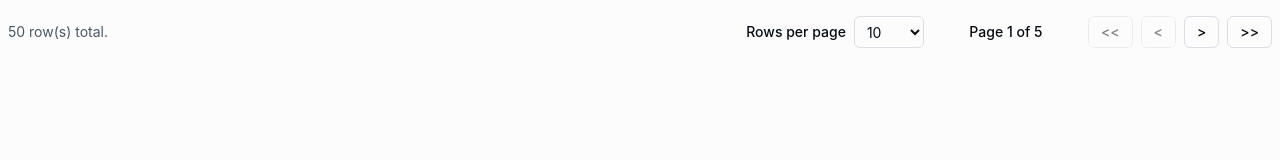
Scenario: TablePagination › navigation buttons › navigates to first page
# Go to page 3
Click the button ">": click(1202, 32) left=1184, top=16, right=1219, bottom=48
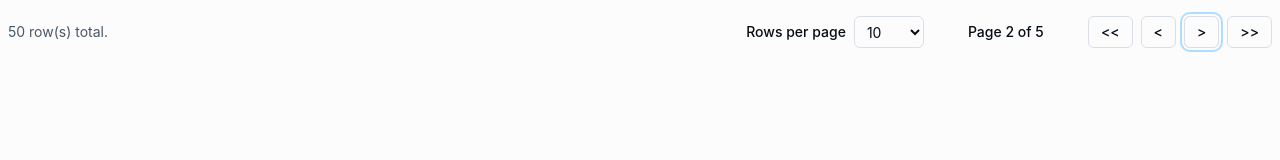
Click the button ">": click(1202, 32) left=1184, top=16, right=1219, bottom=48
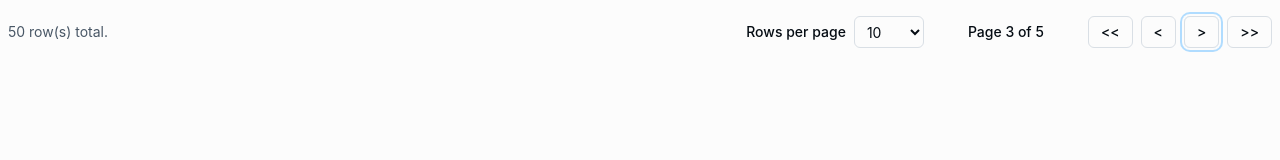
Expected: the text "Page 3 of 5" is shown, left=968, top=23, right=1044, bottom=40
# Jump to first page
Click the button "<<": click(1110, 32) left=1088, top=16, right=1133, bottom=48
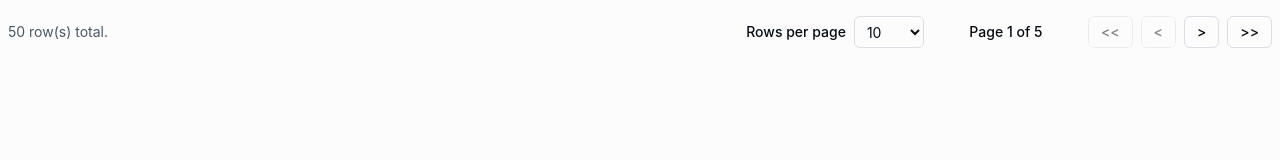
Expected: the text "Page 1 of 5" is shown, left=969, top=23, right=1042, bottom=40
